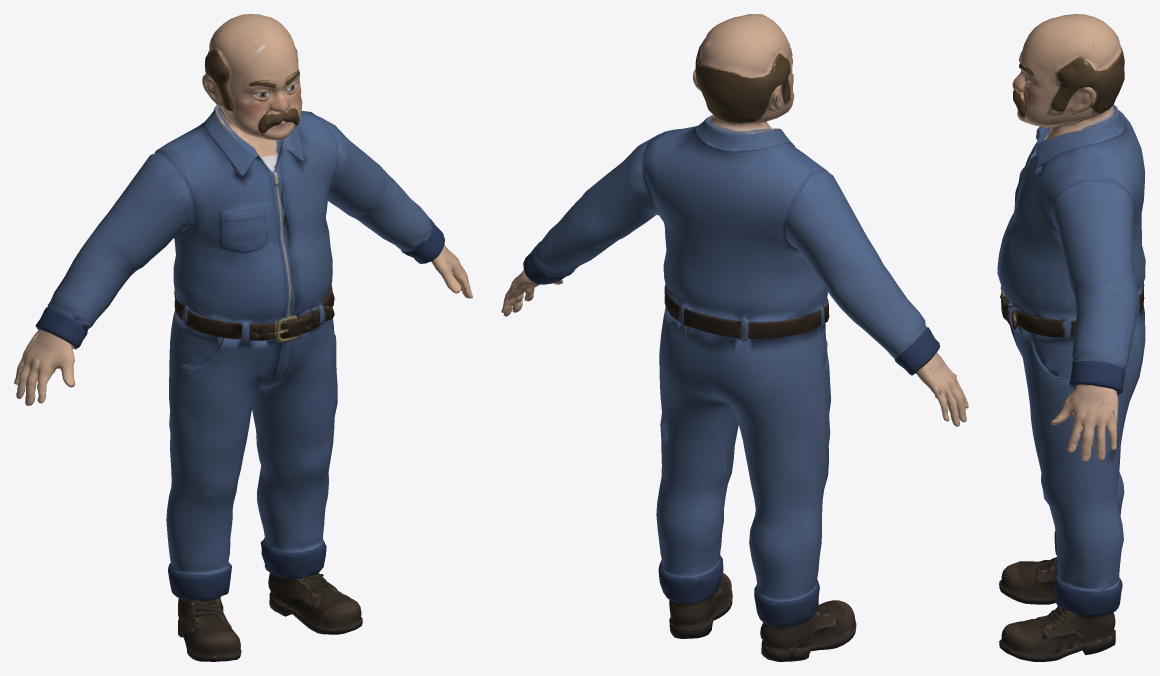
The model's file is tapsa_meshy.glb.
3 views of the same model, side by side, from view 1: azimuth 30°, elevation 25°; view 2: azimuth 150°, elevation 25°; view 3: azimuth 270°, elevation 25° (orthographic).
Bounding box in the file's own units: 1.34 × 1.74 × 0.3865.
Materials: 1 (1 with a texture image).
